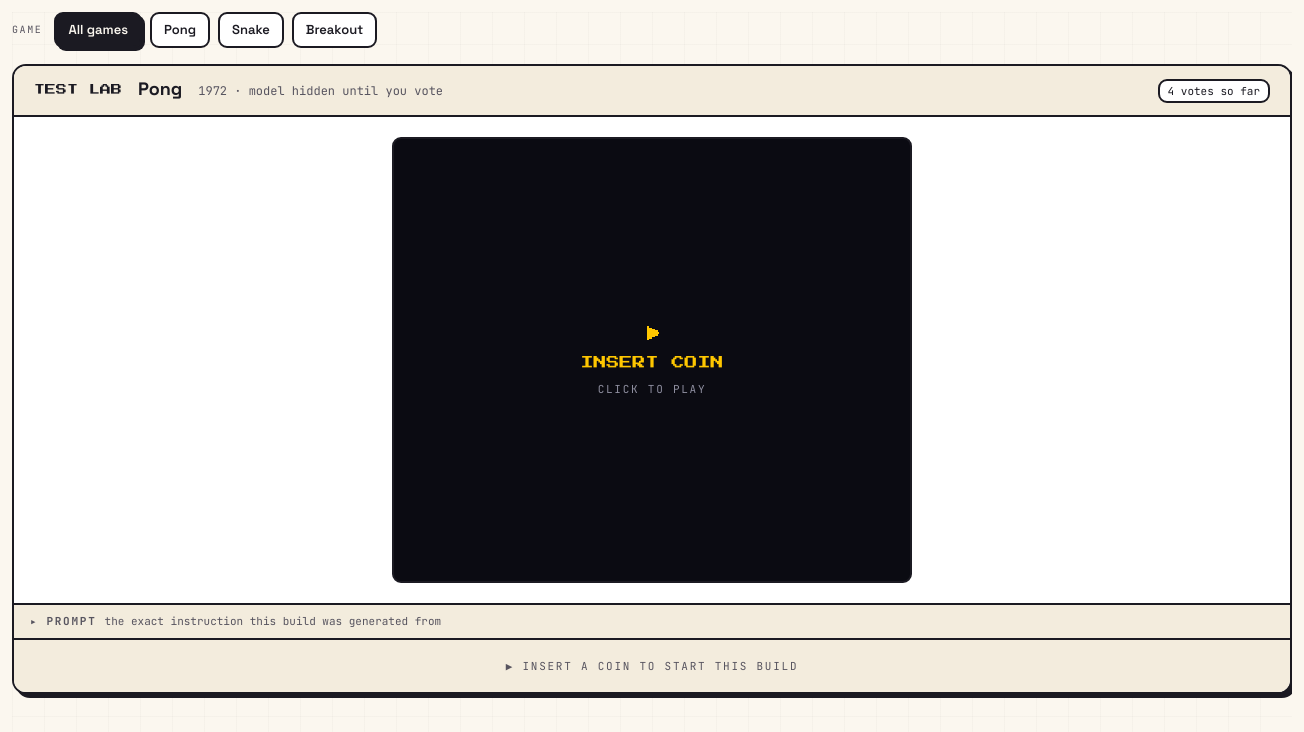
it: TestCabinet › switching game fetches the filtered queue, syncs the URL, and loads the new build
What coordinates should you click on to do the following:
click the button "Snake"
I would click on:
 (251, 30)
Its box is [218,12,284,48].
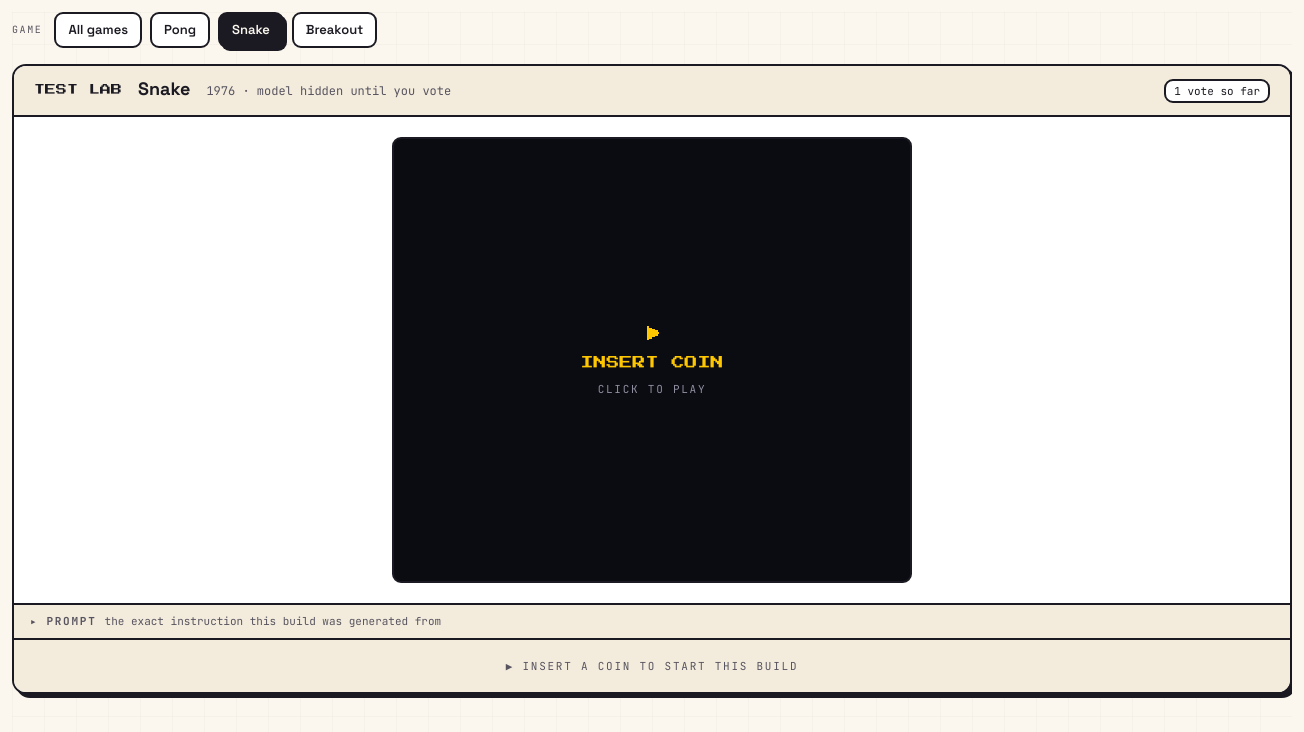
Now the text "1 vote so far" is shown, box [1164,78,1270,103]
